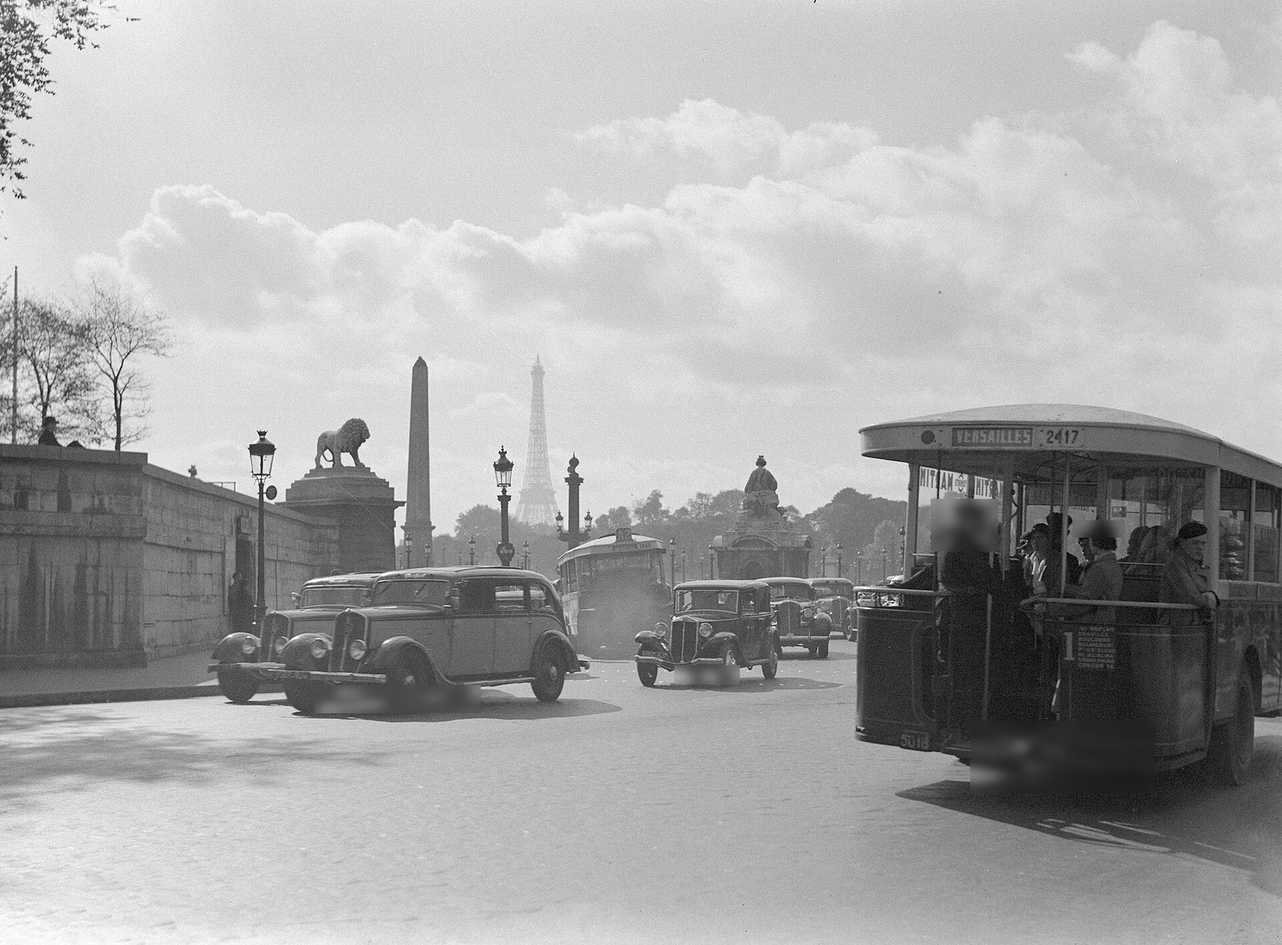person: (931, 499, 999, 740), (1073, 520, 1125, 601)
truck: (853, 403, 1274, 810), (209, 564, 587, 720), (633, 580, 782, 689)
